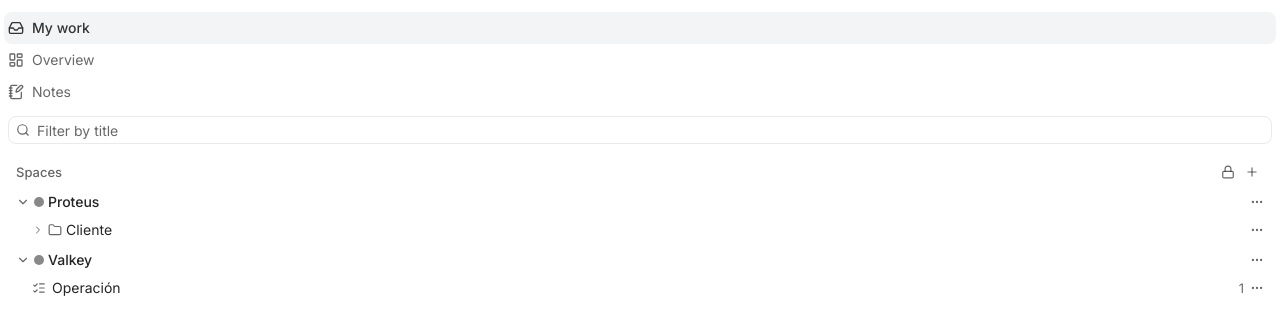
Test case: el panel de Trabajo › el filtro encuentra una lista dentro de una carpeta cerrada y esconde lo demás
In the search field labelled "Filter by title": [640, 130] box [8,116,1272,144], type "back"
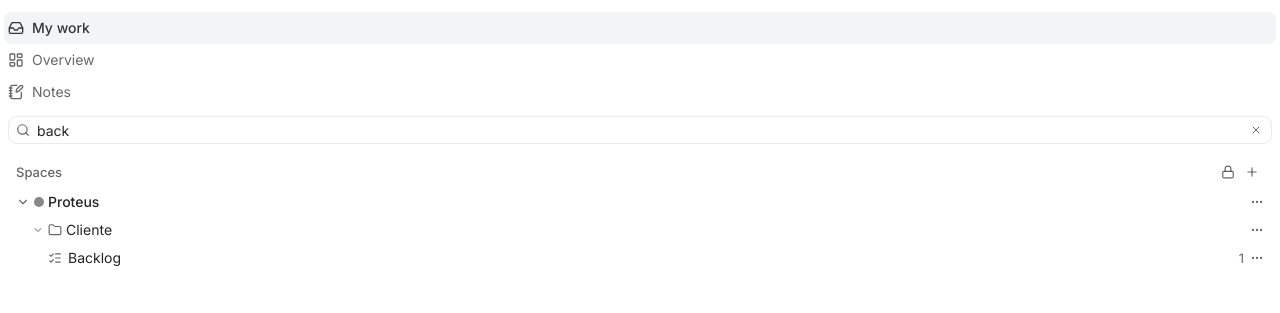
Now the text "Backlog" is shown, box [68,249,121,266]
Now the button "Valkey" is gone
